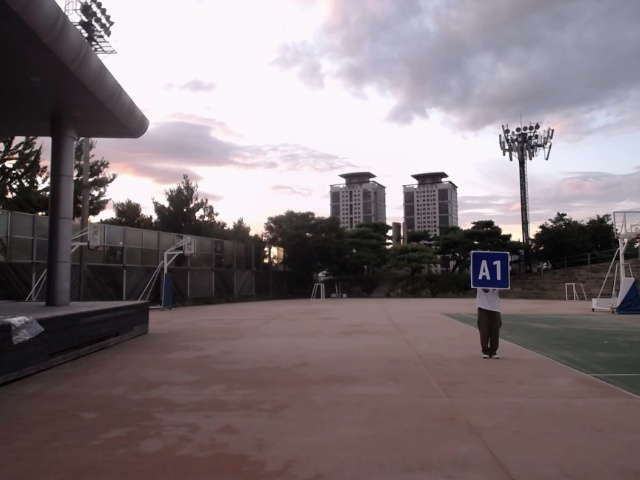delivery_a1: (471, 252, 510, 289)
